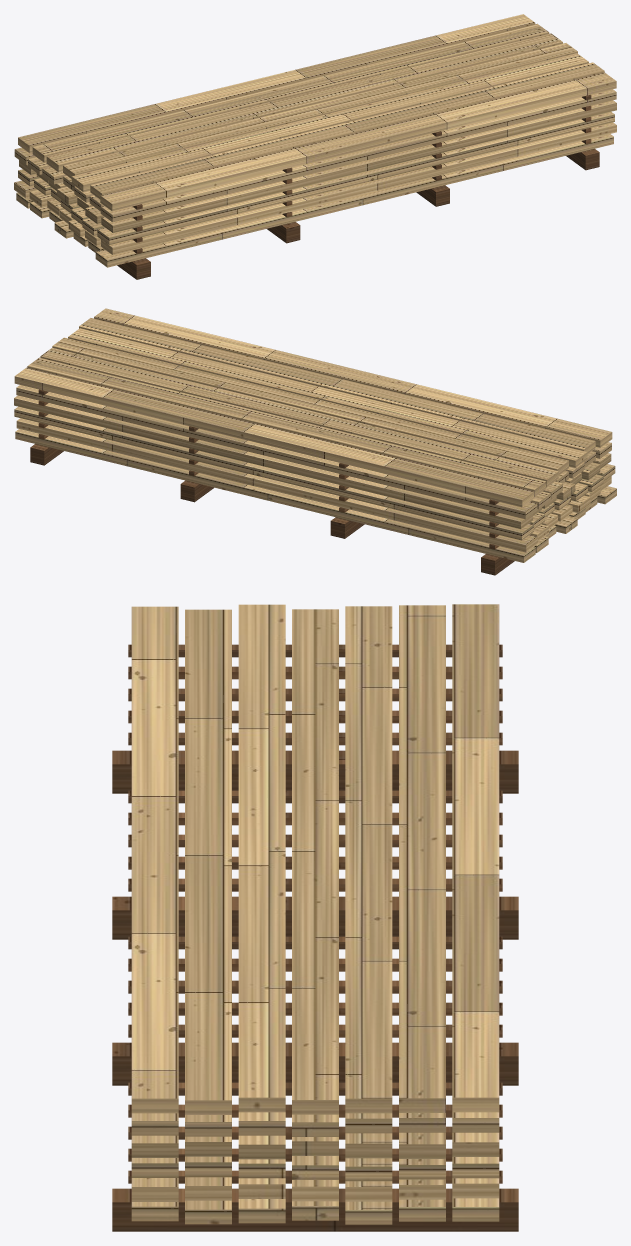
The model's file is stack_b.glb.
The picture shows the model from 3 angles, top to bottom: view 1: azimuth 30°, elevation 25°; view 2: azimuth 150°, elevation 25°; view 3: azimuth 270°, elevation 25°; orthographic projection. The views are drawn at different scales.
Parts seen in each view (by area): view 1: stack_b_lumber, stack_b_dkwood; view 2: stack_b_lumber, stack_b_dkwood; view 3: stack_b_lumber, stack_b_dkwood.
Part boxes in pixels (bbox=[...]): stack_b_lumber: bbox=[14, 14, 616, 267]; stack_b_dkwood: bbox=[117, 95, 599, 279]; stack_b_lumber: bbox=[14, 308, 616, 562]; stack_b_dkwood: bbox=[30, 389, 514, 575]; stack_b_lumber: bbox=[131, 604, 499, 1224]; stack_b_dkwood: bbox=[112, 644, 518, 1231].
Bounding box in the file's own units: 3.65 × 0.525 × 1.25.
2 materials, 2 textured.
